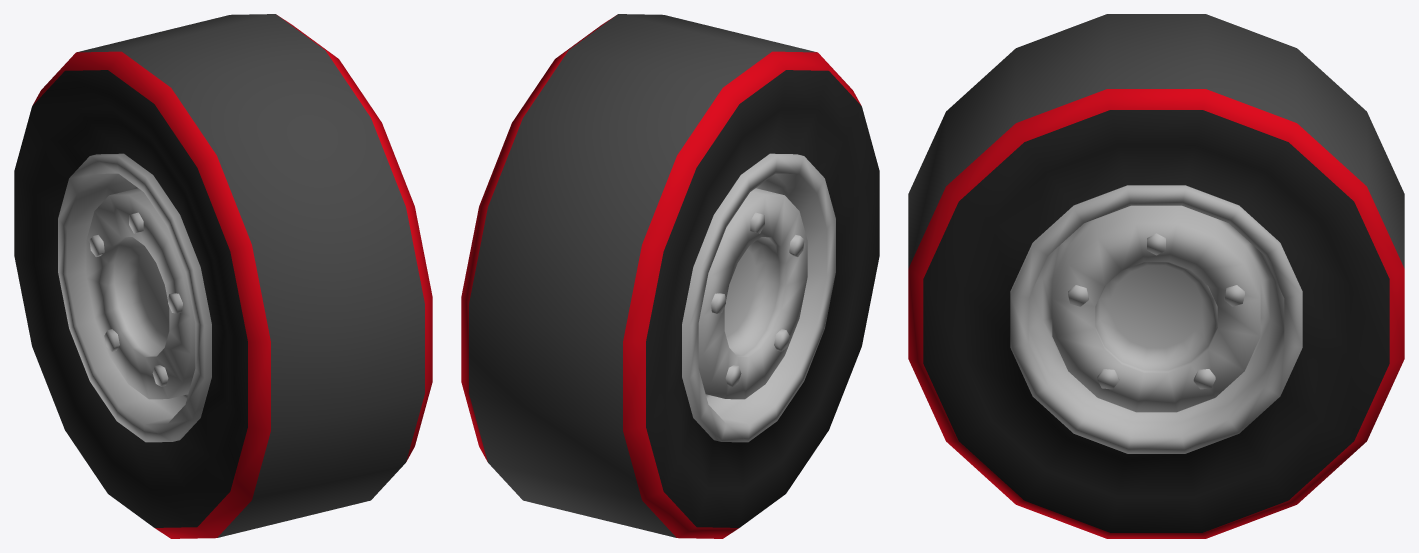
Rendered from Forklift_RearWheel_01.fbx.
3 renders of one model, left to right at view 1: azimuth 30°, elevation 25°; view 2: azimuth 150°, elevation 25°; view 3: azimuth 270°, elevation 25°, orthographic.
Visible parts, largest first — view 1: ForkliftRearWheels_low; view 2: ForkliftRearWheels_low; view 3: ForkliftRearWheels_low.
Boxes of the visible parts, x1=… form: ForkliftRearWheels_low: x1=14, y1=14, x2=432, y2=538; ForkliftRearWheels_low: x1=461, y1=14, x2=879, y2=538; ForkliftRearWheels_low: x1=908, y1=14, x2=1404, y2=538.
Size of the model in its own units: 0.2322 by 0.5422 by 0.5422.
